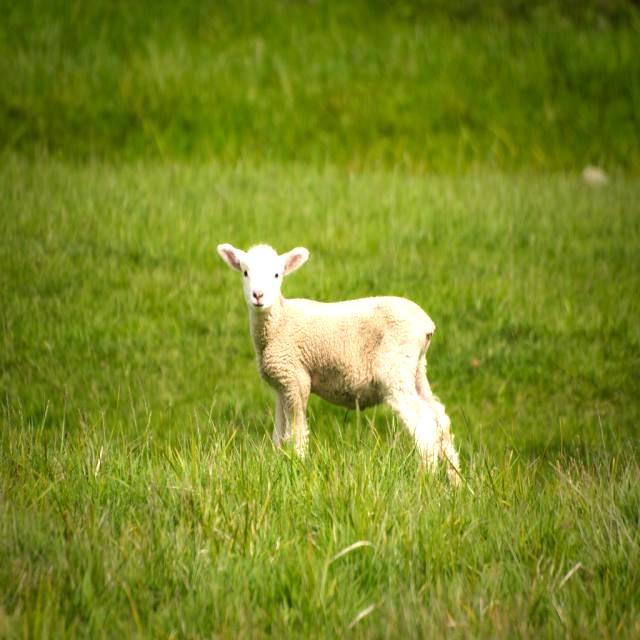sheep: (217, 245, 458, 475)
